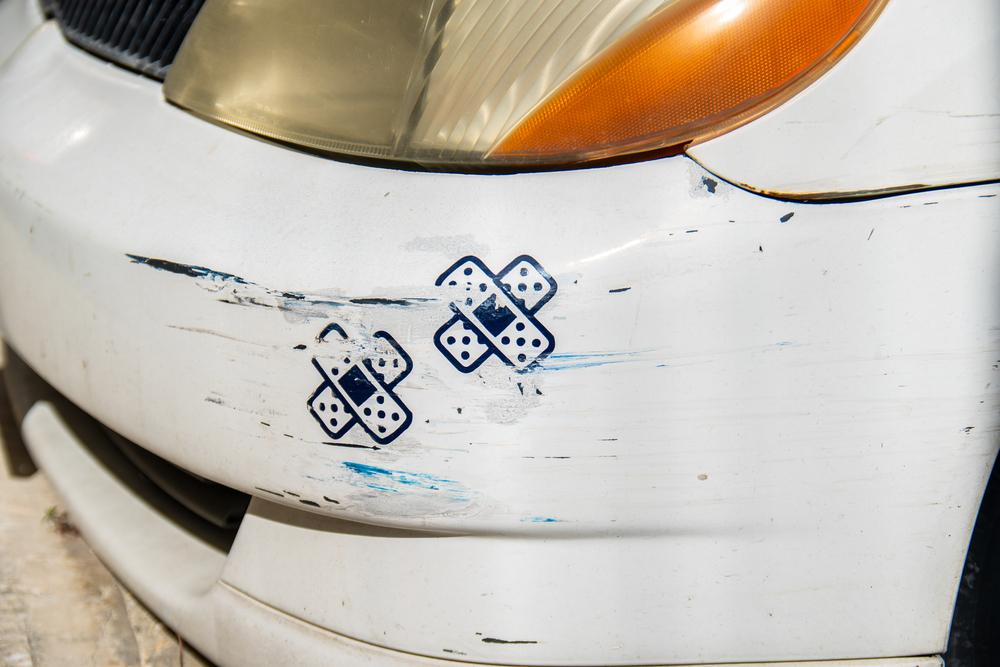scratch: (113, 166, 790, 523)
